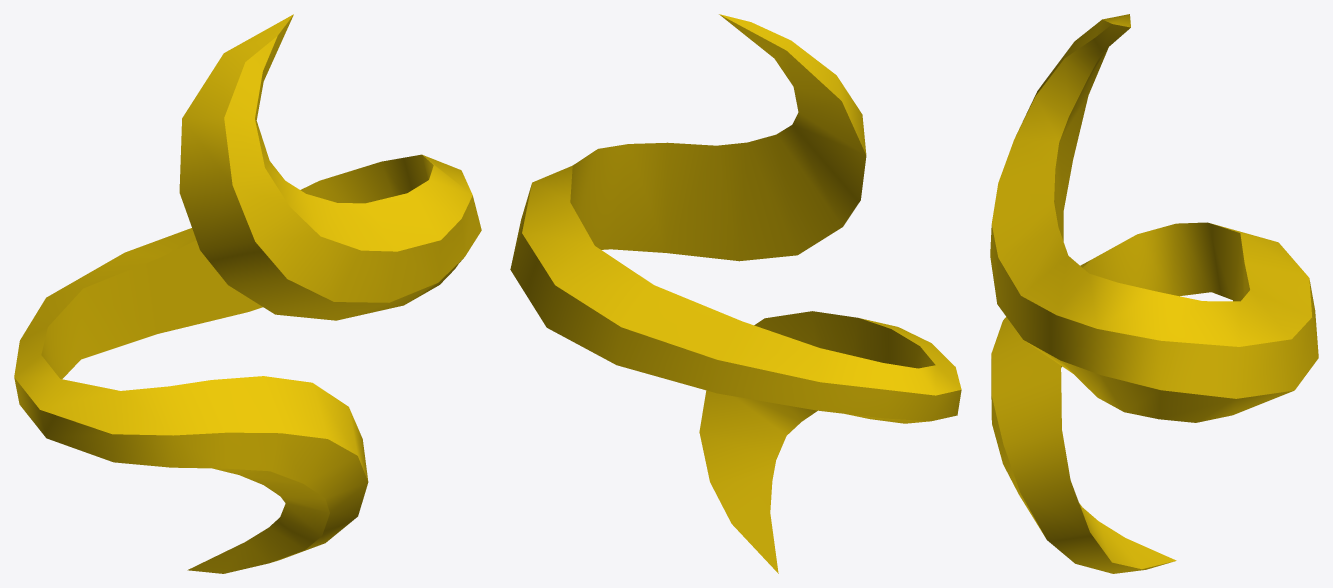
Rendered from Qube_Gold_1.fbx.
3 views of the same model, side by side, from view 1: azimuth 30°, elevation 25°; view 2: azimuth 150°, elevation 25°; view 3: azimuth 270°, elevation 25° (orthographic). The views are drawn at different scales.
Parts seen in each view (by area): view 1: Qube_Gold_1; view 2: Qube_Gold_1; view 3: Qube_Gold_1.
Boxes of the visible parts, x1,y1,x2,y2 form: Qube_Gold_1: (14, 14, 481, 573); Qube_Gold_1: (510, 14, 961, 573); Qube_Gold_1: (990, 14, 1318, 573).
Bounding box in the file's own units: 34.55 × 40.65 × 21.
